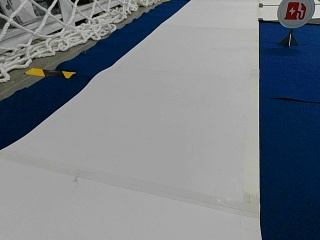battery: (276, 0, 316, 28)
